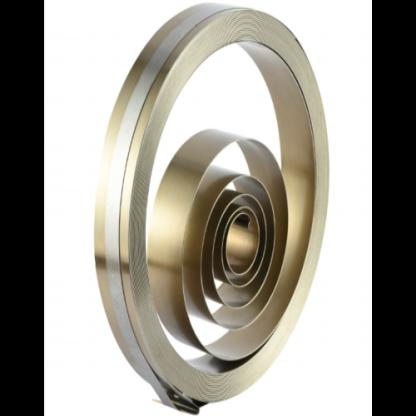FOD: (92, 0, 332, 414)
